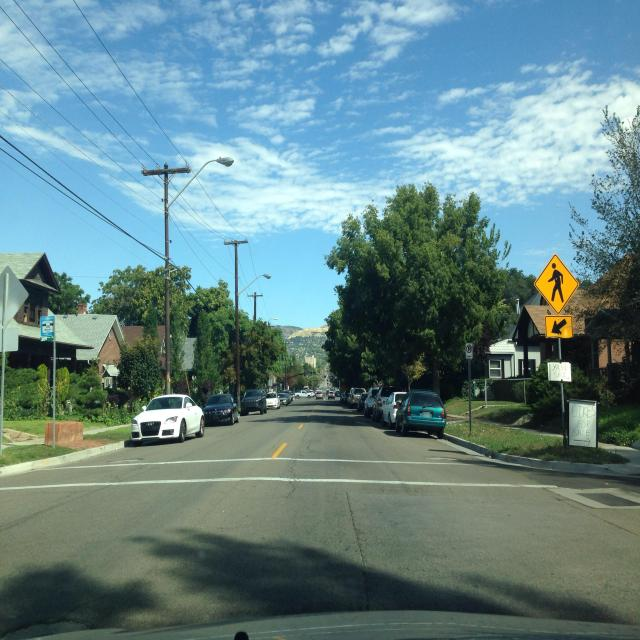Good: (106, 456, 146, 468)
